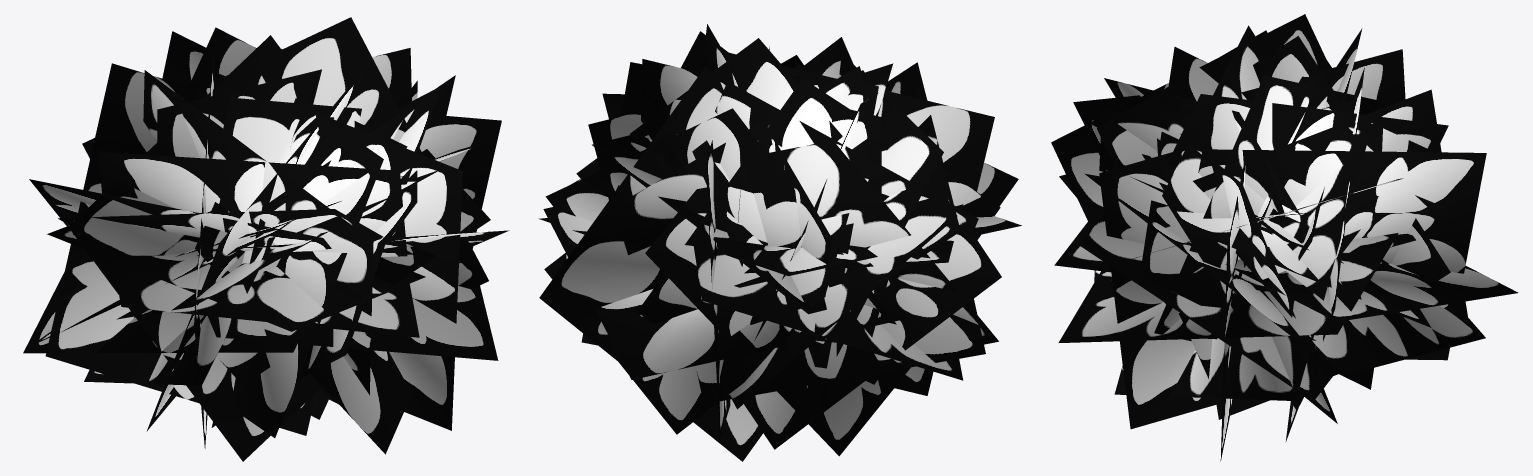
Rendered from leaf_tree.fbx.
The picture shows the model from 3 angles, left to right: view 1: azimuth 30°, elevation 25°; view 2: azimuth 150°, elevation 25°; view 3: azimuth 270°, elevation 25°; orthographic projection. The views are drawn at different scales.
Visible parts, largest first — view 1: Plane; view 2: Plane; view 3: Plane.
Boxes of the visible parts, x1,y1,x2,y2 form: Plane: (23,17,509,461); Plane: (538,24,1021,461); Plane: (1051,14,1518,461).
Size of the model in its own units: 353 by 303 by 332.
Materials: 1 (1 with a texture image).
